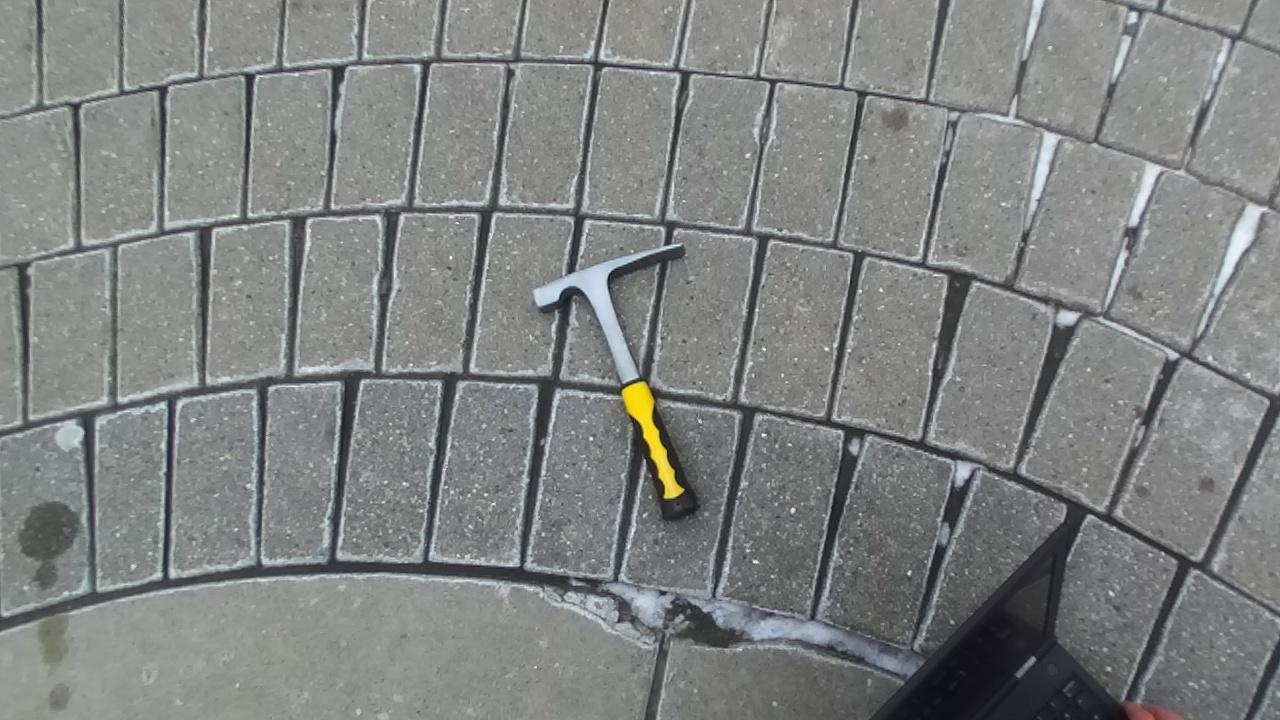pick: (533, 245, 699, 519)
